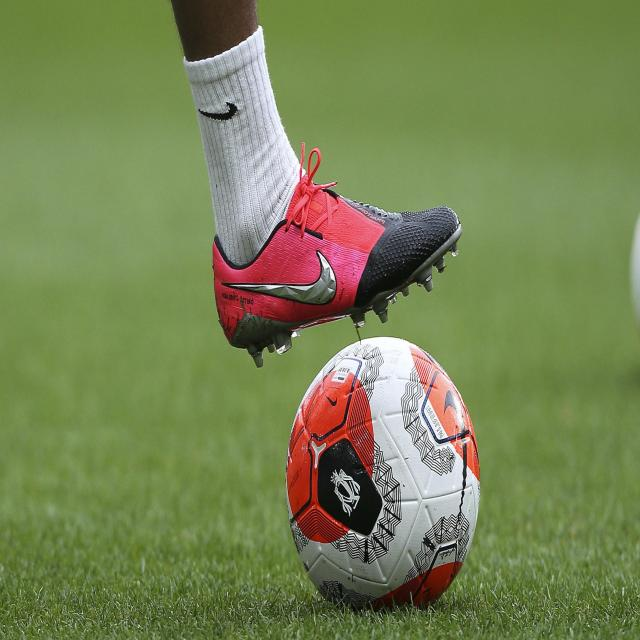nike: (222, 246, 341, 314), (197, 89, 241, 126), (322, 388, 343, 412)
